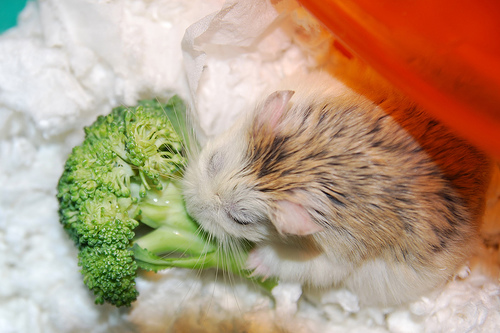broccoli: (59, 101, 290, 309)
